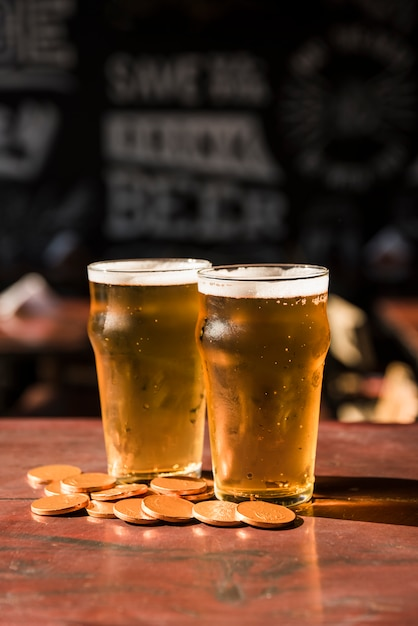alcohol: (195, 261, 335, 512), (87, 261, 217, 486)
